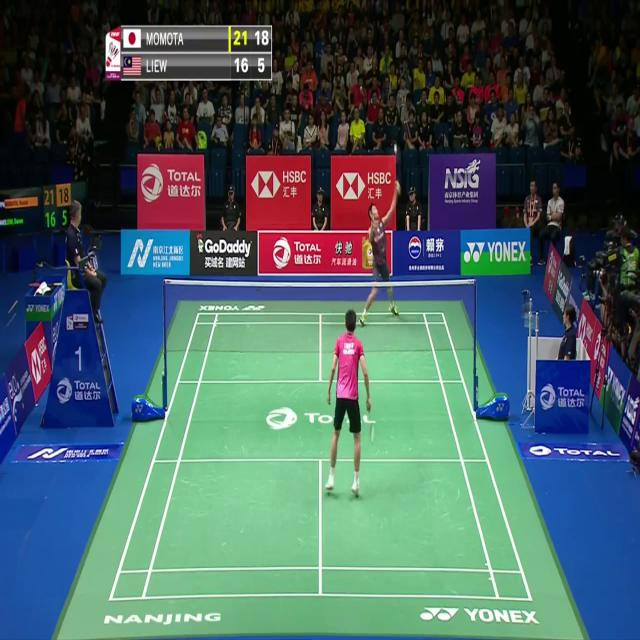Shuttlecock: (392, 143, 399, 154)
